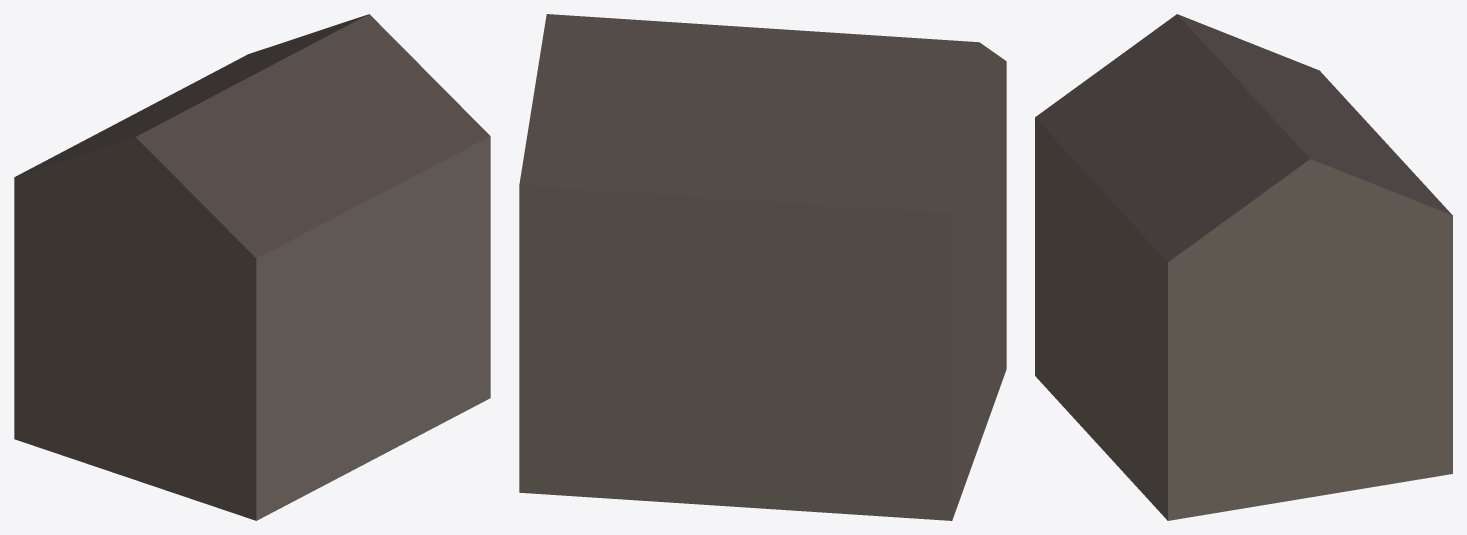
The picture shows the model from 3 angles, left to right: view 1: azimuth 30°, elevation 25°; view 2: azimuth 150°, elevation 25°; view 3: azimuth 270°, elevation 25°; orthographic projection. The views are drawn at different scales.
Parts seen in each view (by area): view 1: HP-w858807436; view 2: HP-w858807436; view 3: HP-w858807436.
Part boxes in pixels (left/top/right/bottom): HP-w858807436: left=14, top=14, right=490, bottom=520; HP-w858807436: left=519, top=14, right=1006, bottom=520; HP-w858807436: left=1035, top=14, right=1452, bottom=520.
Bounding box in the file's own units: 9.57 × 7.86 × 8.79.
